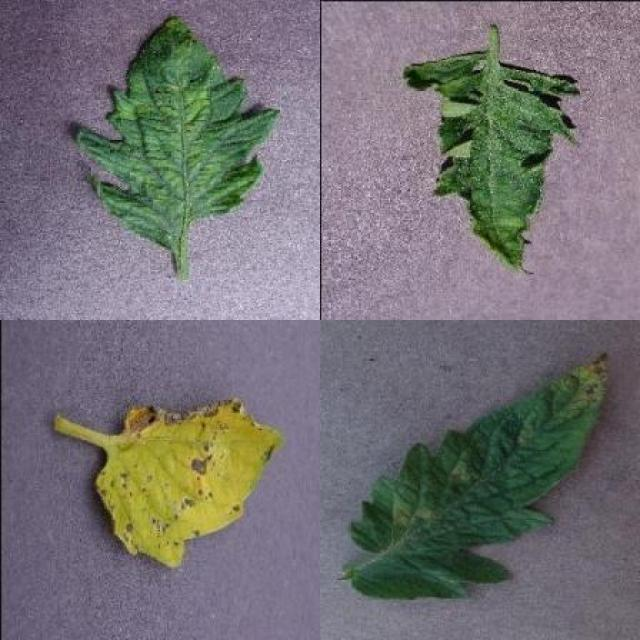Leaf Mold: (346, 350, 614, 603)
Mosaic Virus: (77, 15, 282, 249), (398, 48, 582, 278)
Septoria: (94, 398, 286, 572)
